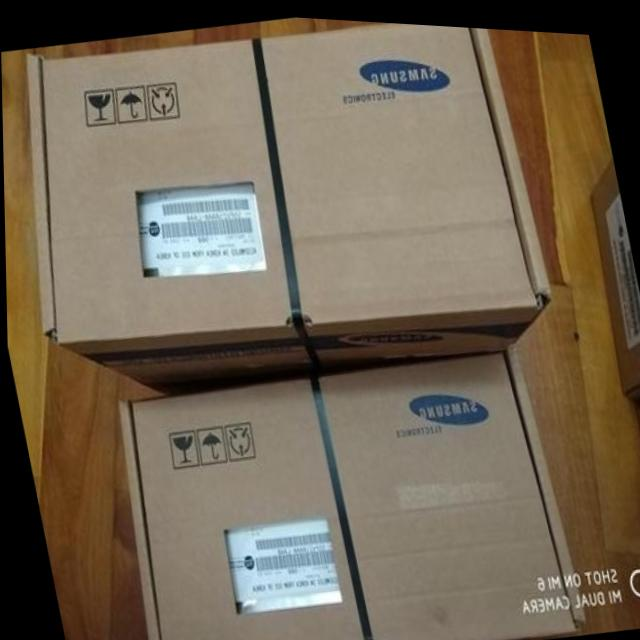box: (28, 18, 552, 392), (115, 344, 584, 640)
